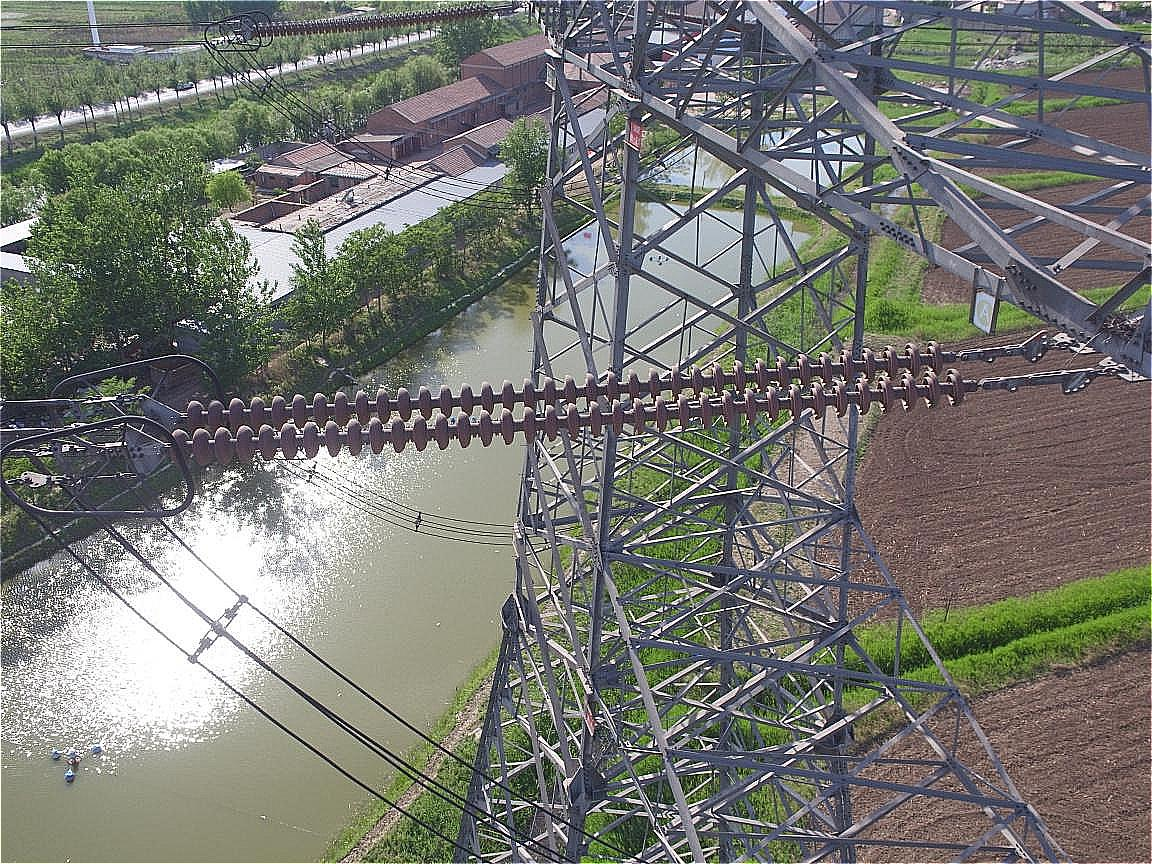insultor1: (146, 332, 954, 478)
